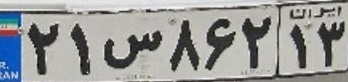character: (98, 26, 163, 73), (24, 18, 64, 78), (238, 9, 275, 73), (164, 16, 202, 73), (202, 12, 236, 75), (313, 20, 348, 71), (66, 18, 95, 78), (286, 22, 311, 71)
